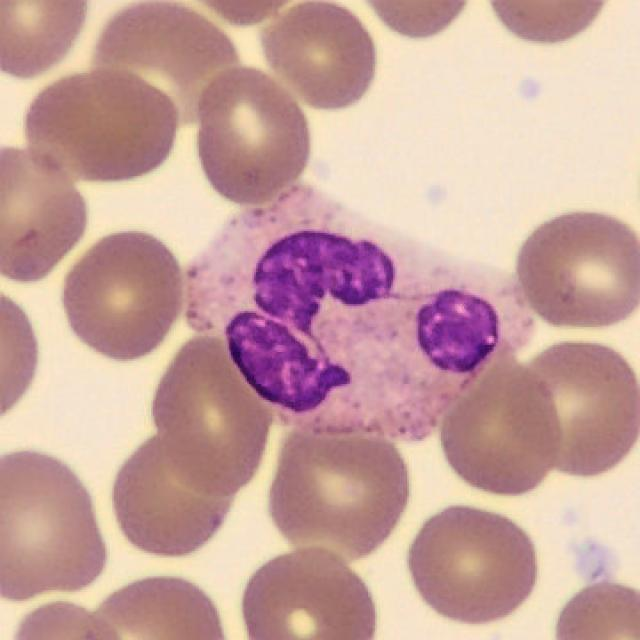Neutrofilo segmentado: (185, 185, 537, 441)
